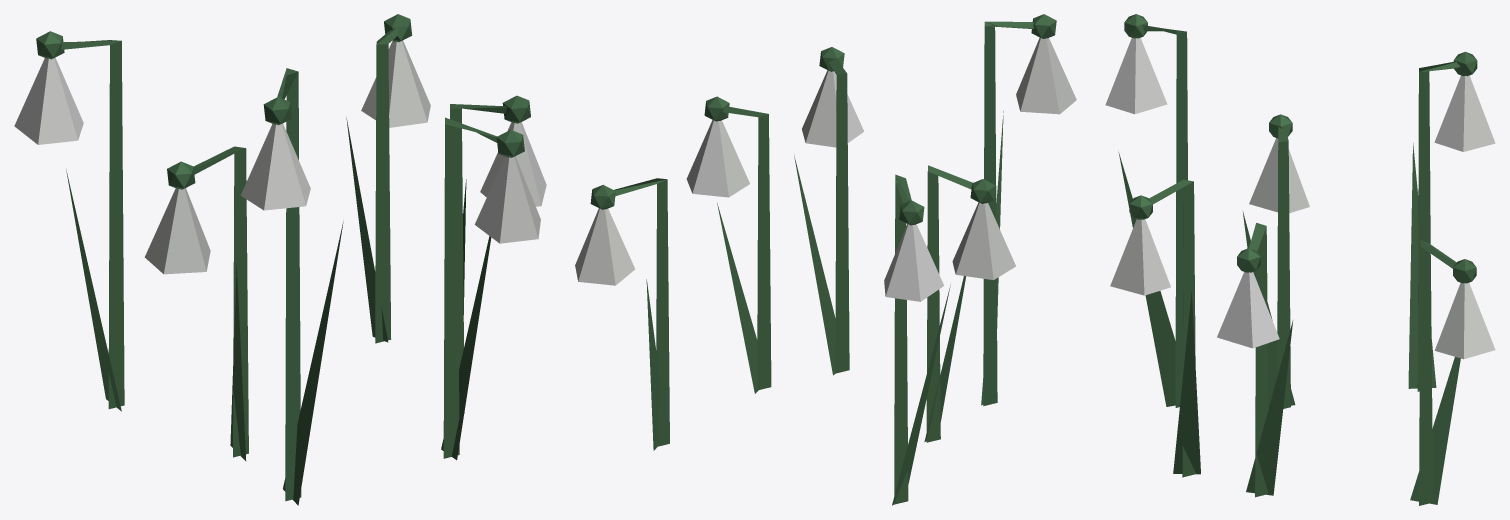
The model's file is snowdrop_cluster.glb.
3 renders of one model, left to right at view 1: azimuth 30°, elevation 25°; view 2: azimuth 150°, elevation 25°; view 3: azimuth 270°, elevation 25°, orthographic. The views are drawn at different scales.
Parts seen in each view (by area): view 1: snowdrop_cluster; view 2: snowdrop_cluster; view 3: snowdrop_cluster.
Boxes of the visible parts, <box> form: snowdrop_cluster: <box>14,14,546,505</box>; snowdrop_cluster: <box>575,14,1076,505</box>; snowdrop_cluster: <box>1105,14,1495,505</box>.
Bounding box in the file's own units: 0.1751 × 0.1785 × 0.1674.
